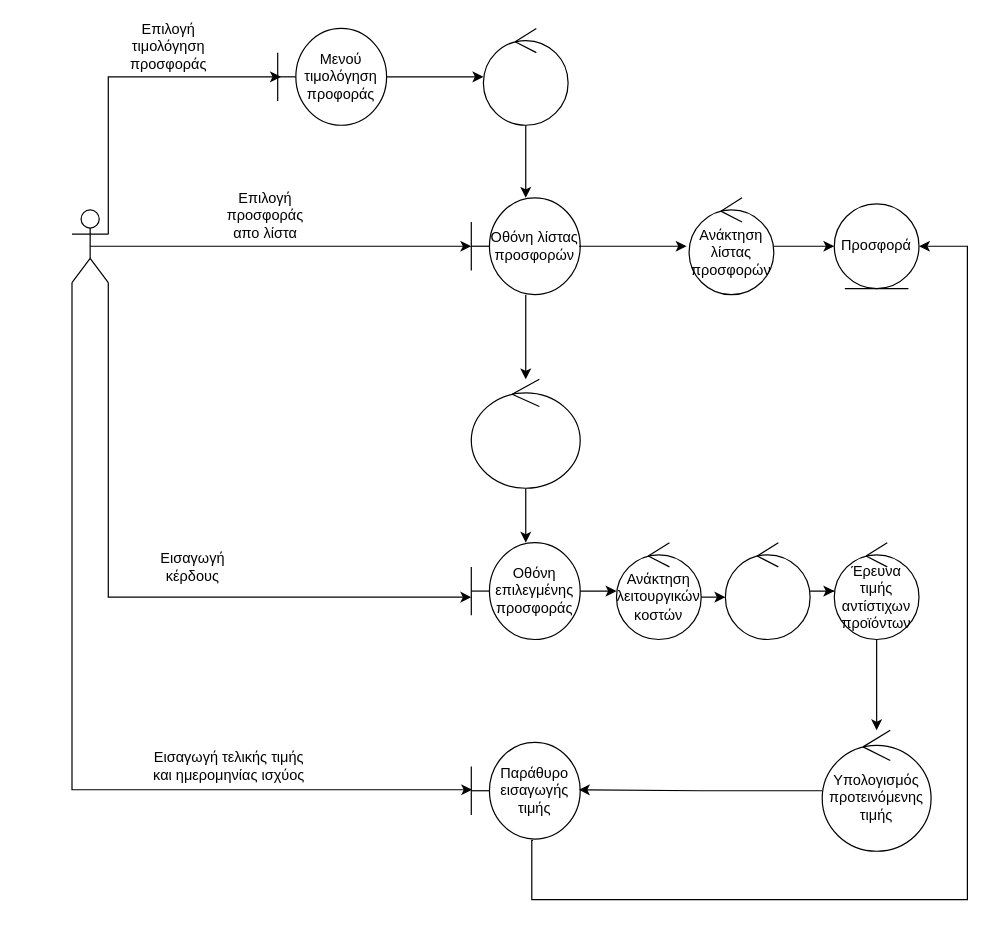
This 998x930 diagram has some shape labels left out. Each missing label, with the centre of its shape:
"Ανάκτηση ιστορικών δεδομένων" goes at point (767, 590).
"Εμφάνιση λίστας προσφορών" goes at point (525, 76).
"Εμφάνιση πληροφοριών επιλεγμένης προσφοράς" goes at point (525, 433).
"ΤΜΗΜΑ ΠΩΛΗΣΕΩΝ" goes at point (89, 246).
